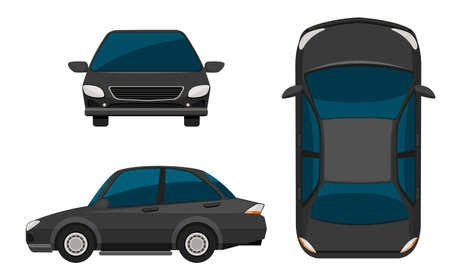car: (33, 169, 260, 267)
